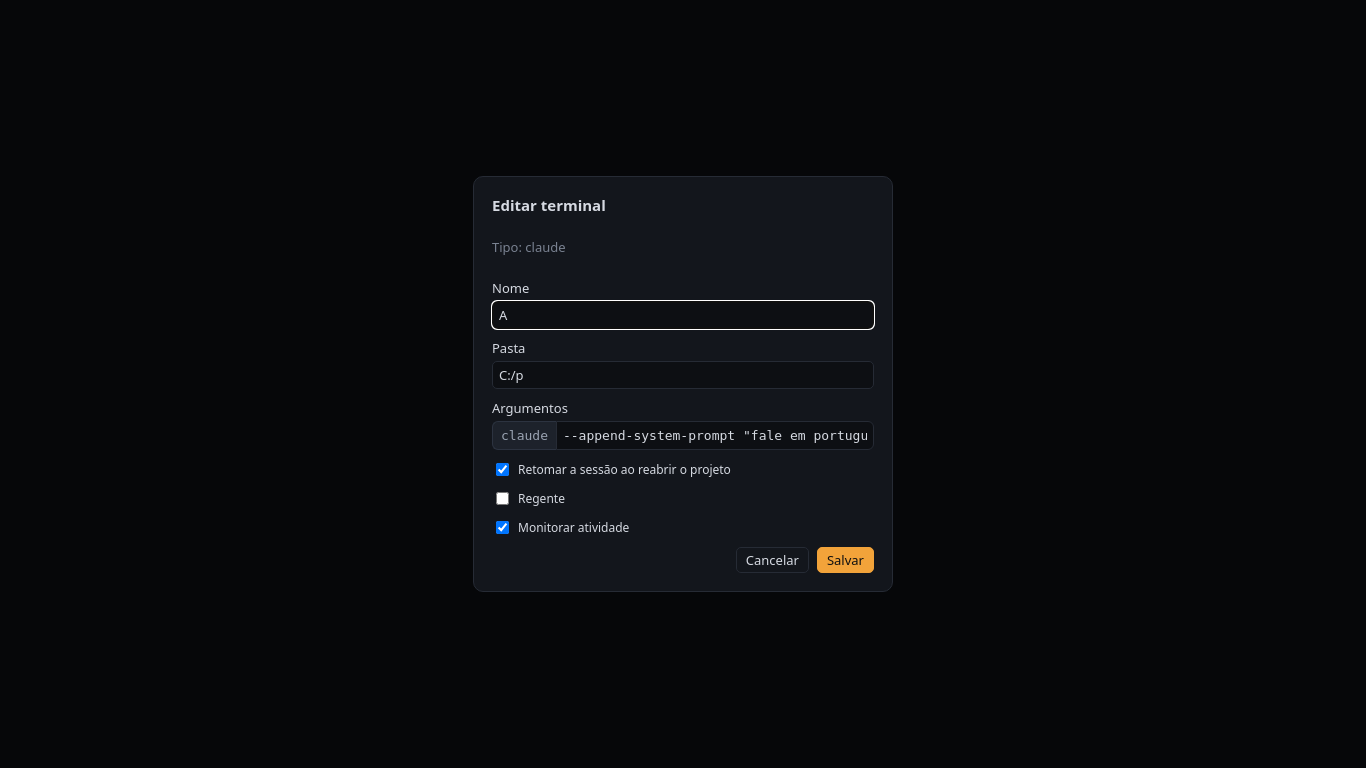
Test: EditTerminalDialog › argumento reservado, aspas abertas e nome repetido aparecem no diálogo, sem enviar
Replace the text in the field with test id "edit-terminal-args" with "--resume" at point(715, 436), box [556,421,874,450]
Click the button with test id "edit-terminal-submit" at point(845, 560), box [817,547,874,573]
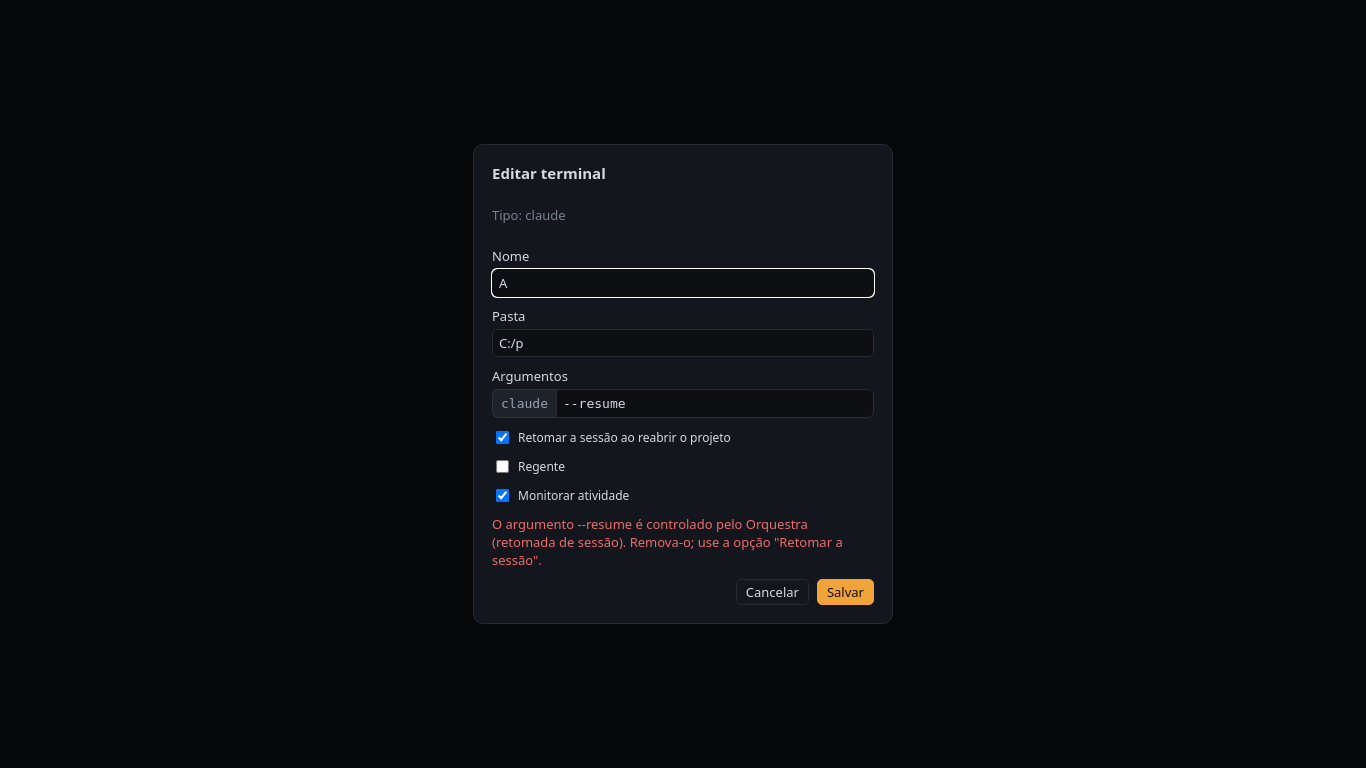
expect the text with test id "edit-terminal-error" shows "--resume é controlado pelo Orquestra": met, box [492,515,843,569]
Replace the text in the field with test id "edit-terminal-args" with "\"aberta" at point(715, 404), box [556,389,874,418]
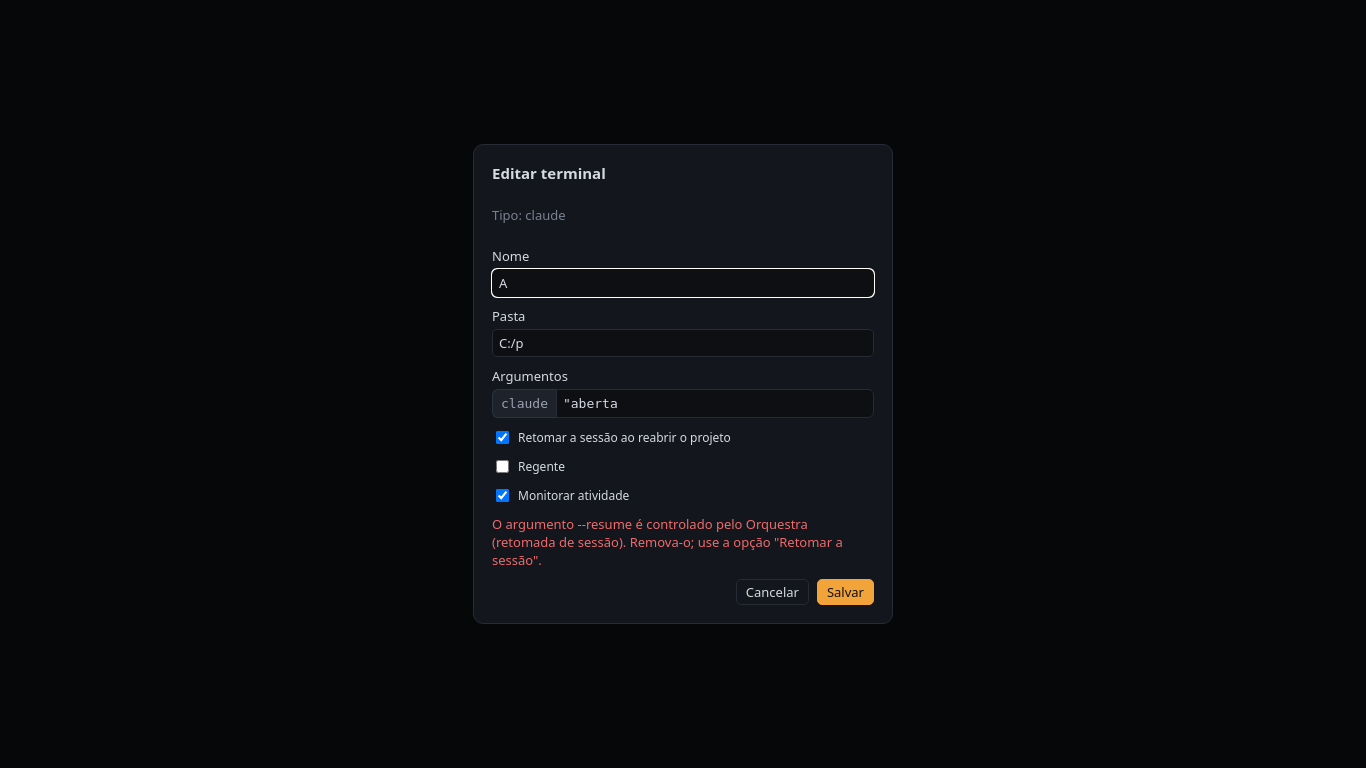
Click the button with test id "edit-terminal-submit" at point(845, 592), box [817,579,874,605]
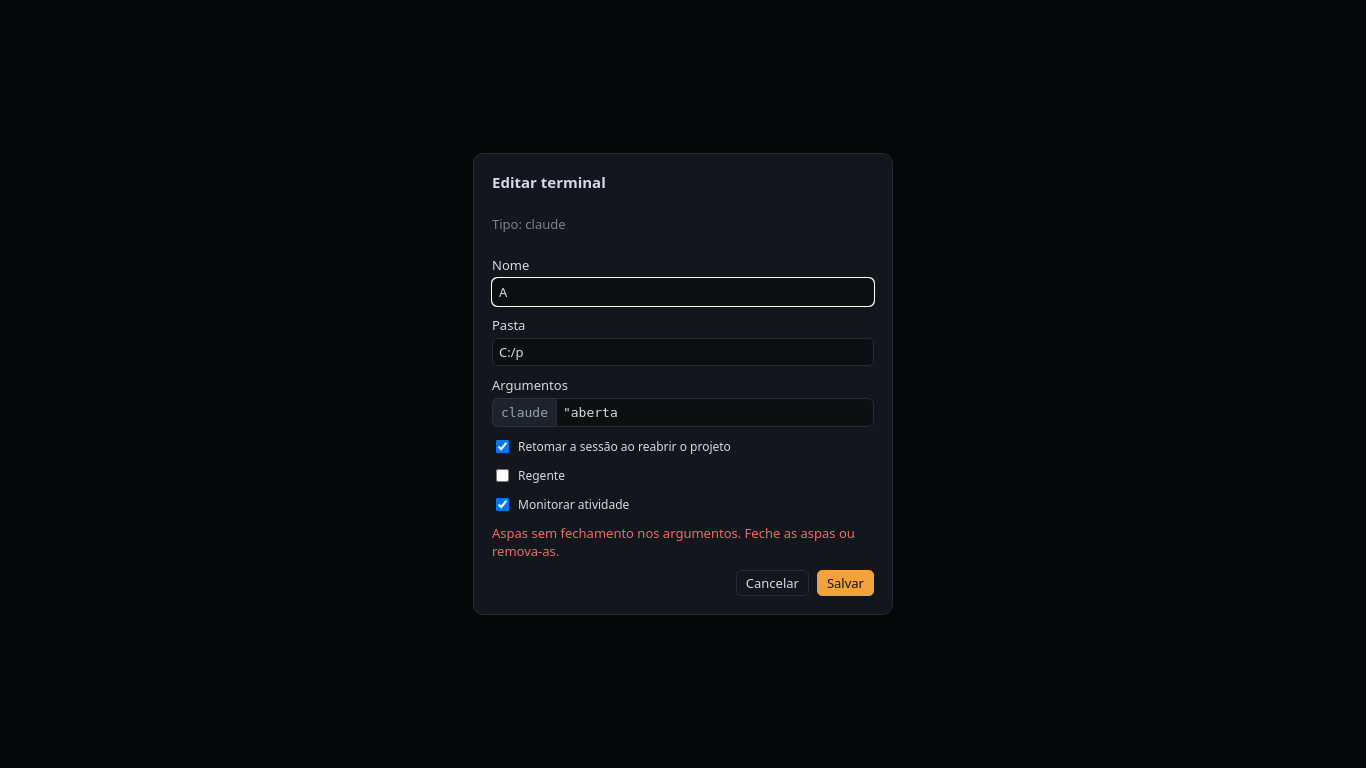
expect the text with test id "edit-terminal-error" shows "Aspas sem fechamento": met, box [492,524,855,560]
Clear the field with test id "edit-terminal-args" at point(715, 412), box [556,398,874,427]
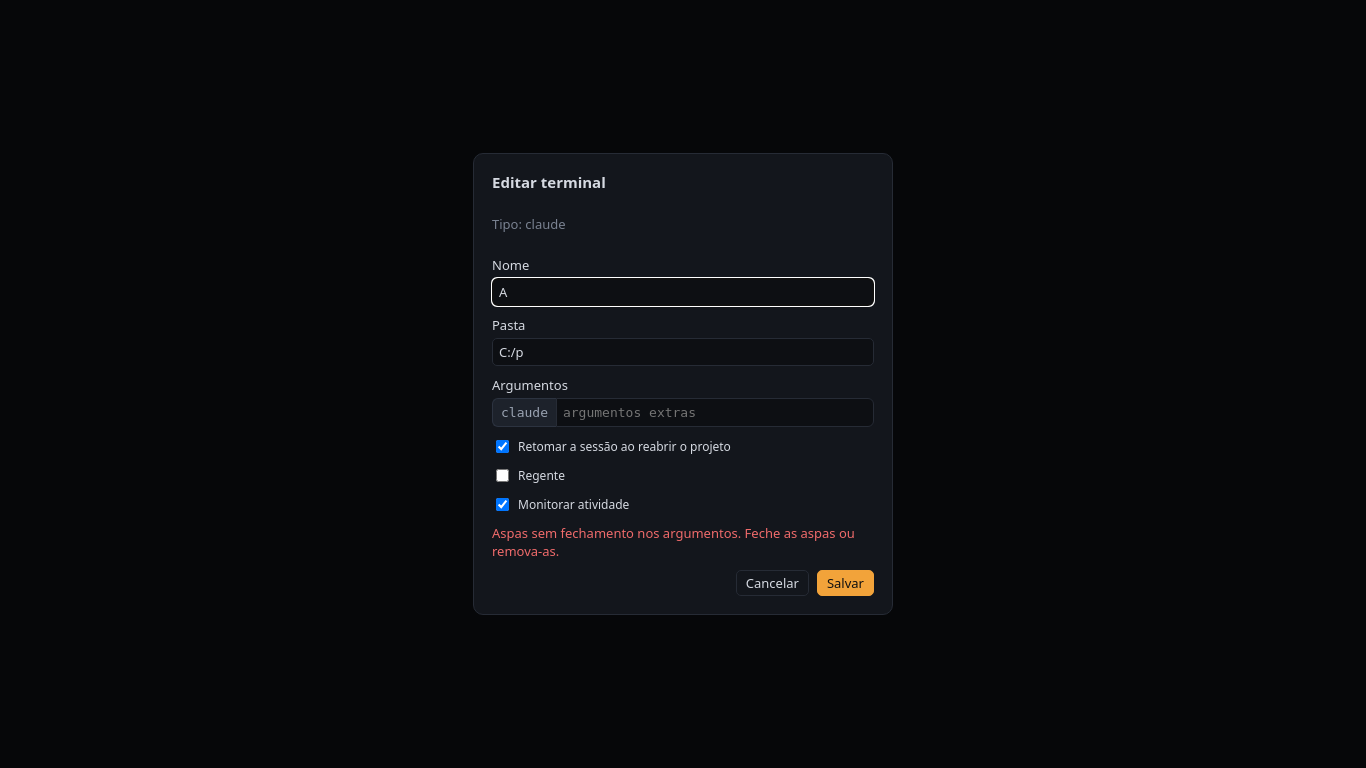
Replace the text in the field with test id "edit-terminal-name" with "C" at point(683, 292), box [492,278,874,306]
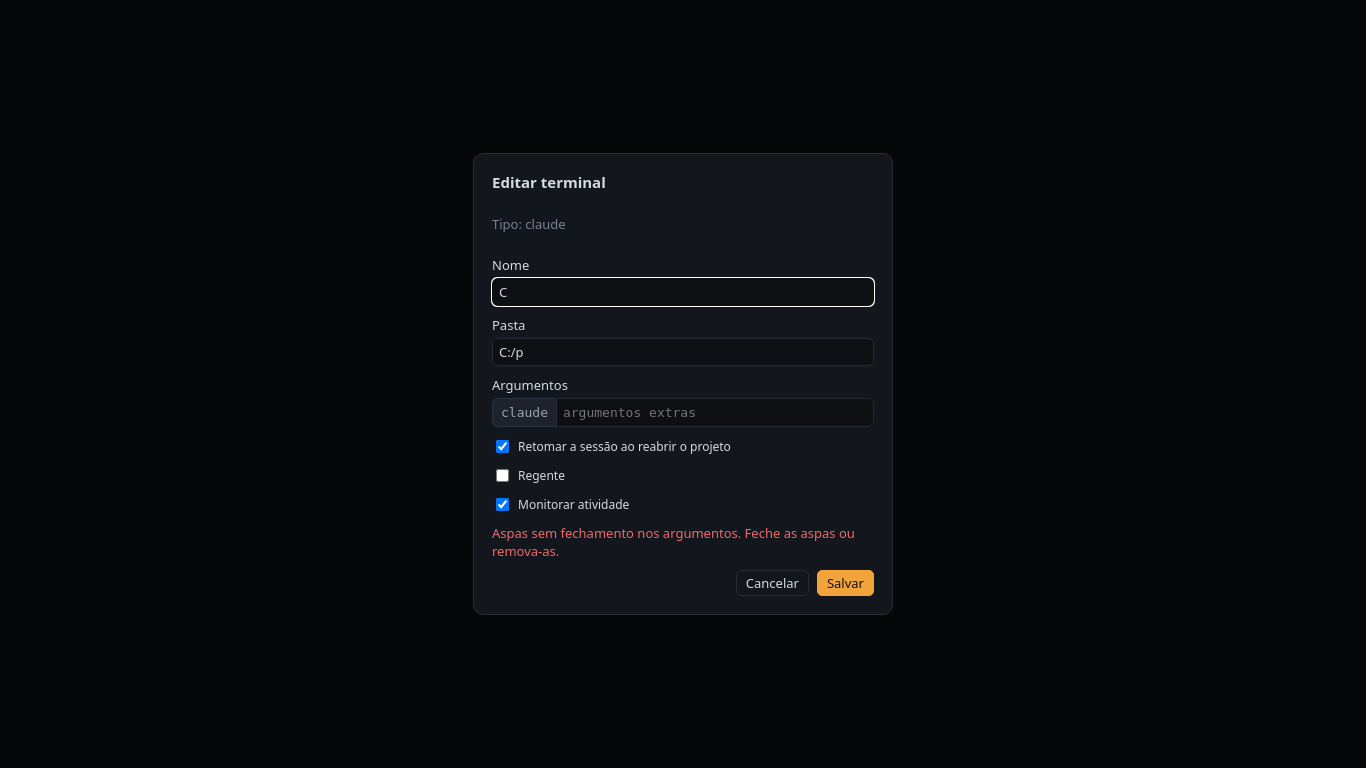
Click the button with test id "edit-terminal-submit" at point(845, 583), box [817,570,874,596]
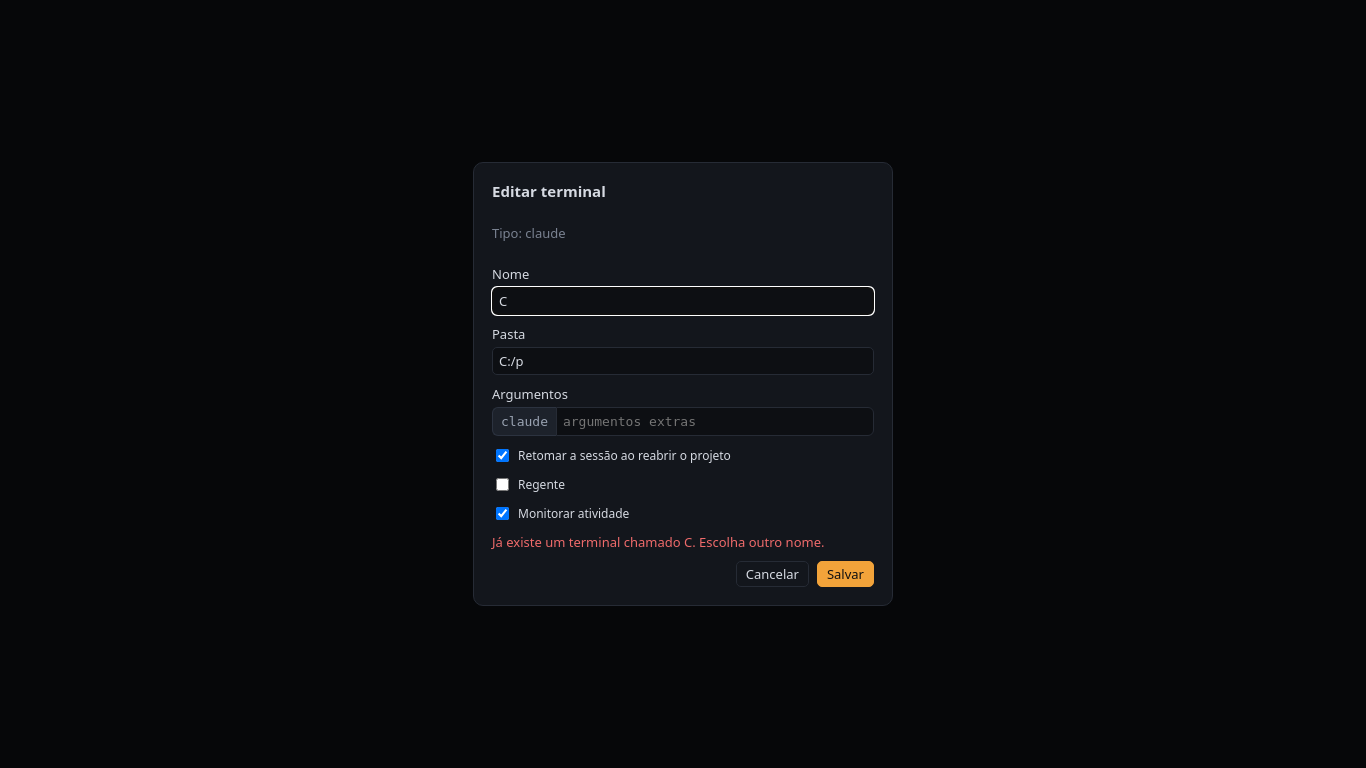
expect the text with test id "edit-terminal-error" shows "Já existe um terminal chamado C": met, box [492,533,824,551]
